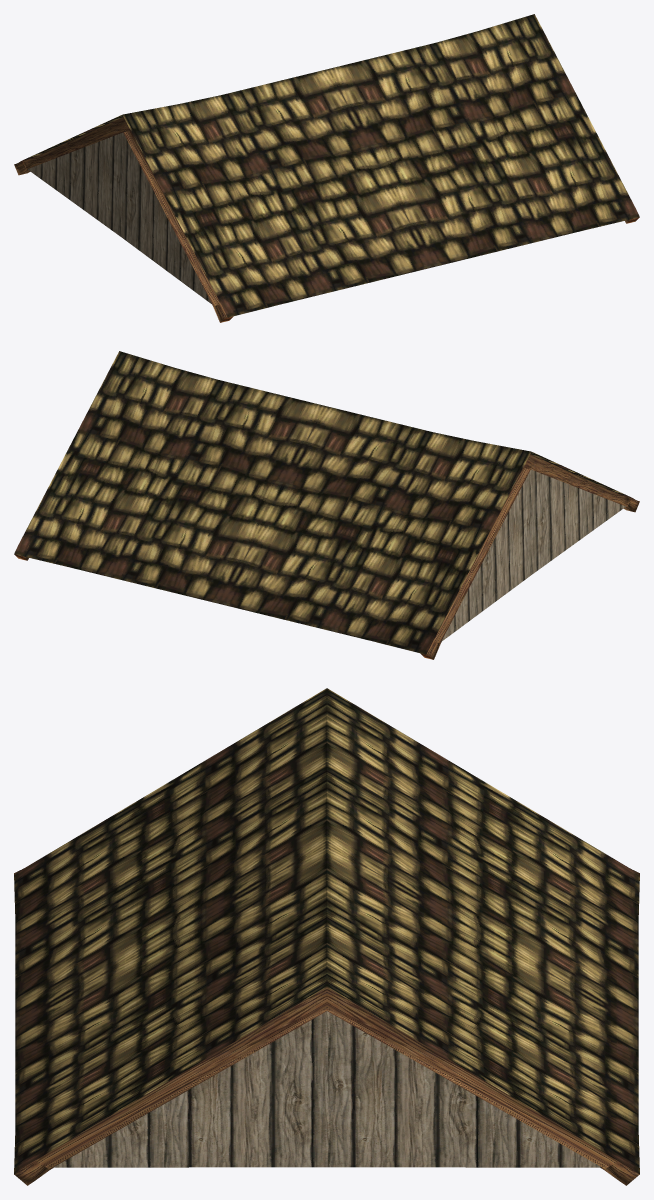
File: LAKETOWN_WAREHOUSE1_PS_WH1_ROOFTOP55__GX.fbx
3 renders of one model, top to bottom at view 1: azimuth 30°, elevation 25°; view 2: azimuth 150°, elevation 25°; view 3: azimuth 270°, elevation 25°, orthographic. The views are drawn at different scales.
Parts seen in each view (by area): view 1: LAKETOWN_WAREHOUSE1_PS_WH1_ROOFTOP55__GX; view 2: LAKETOWN_WAREHOUSE1_PS_WH1_ROOFTOP55__GX; view 3: LAKETOWN_WAREHOUSE1_PS_WH1_ROOFTOP55__GX.
Part boxes in pixels (<box>): LAKETOWN_WAREHOUSE1_PS_WH1_ROOFTOP55__GX: <box>14,14,639,322</box>; LAKETOWN_WAREHOUSE1_PS_WH1_ROOFTOP55__GX: <box>14,351,639,659</box>; LAKETOWN_WAREHOUSE1_PS_WH1_ROOFTOP55__GX: <box>14,688,639,1185</box>.
Bounding box in the file's own units: 193572 × 59615 × 170030.
Materials: 4 (4 with a texture image).
